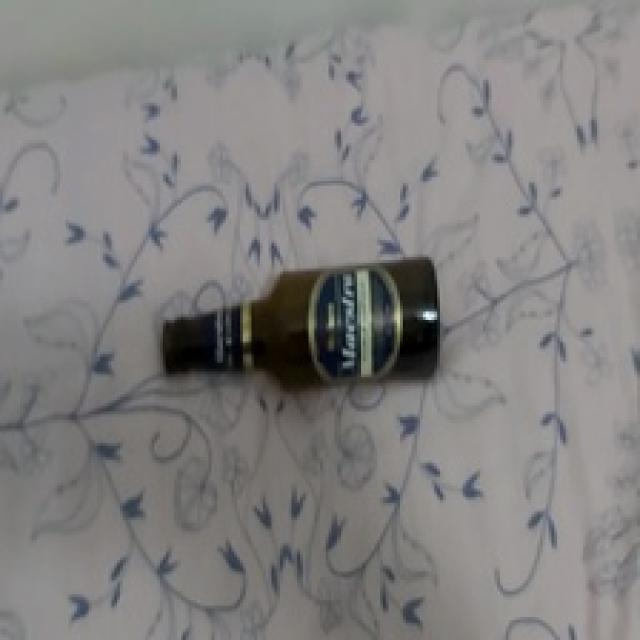Glass: (164, 252, 446, 389)
